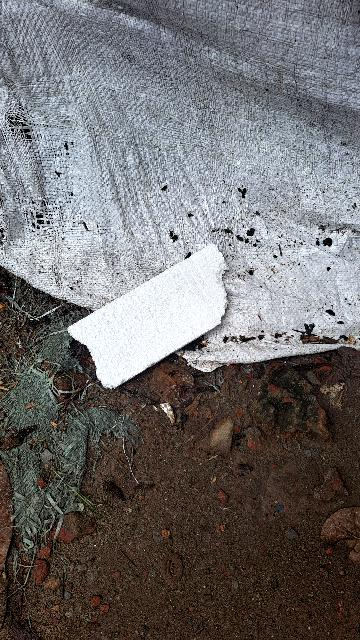cocksheet: (67, 240, 237, 399)
